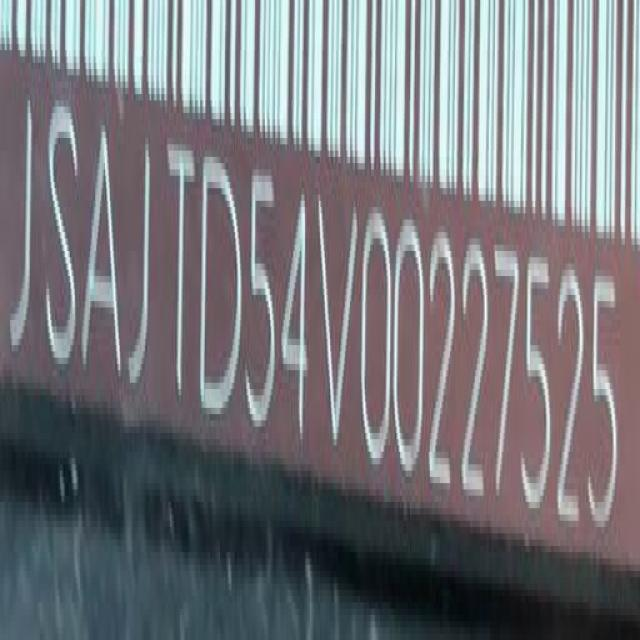0: (394, 212, 426, 487), (362, 203, 393, 479)
2: (556, 257, 586, 535), (459, 236, 488, 507), (429, 224, 455, 499)
4: (281, 163, 311, 449)
5: (587, 260, 622, 542), (520, 249, 552, 524), (248, 164, 278, 448)
7: (496, 238, 522, 515)
A: (85, 95, 122, 400)
D: (200, 152, 244, 433)
J: (3, 69, 38, 368), (125, 135, 154, 411)
S: (43, 82, 79, 377)
T: (165, 128, 195, 421)
V: (316, 184, 357, 448)
